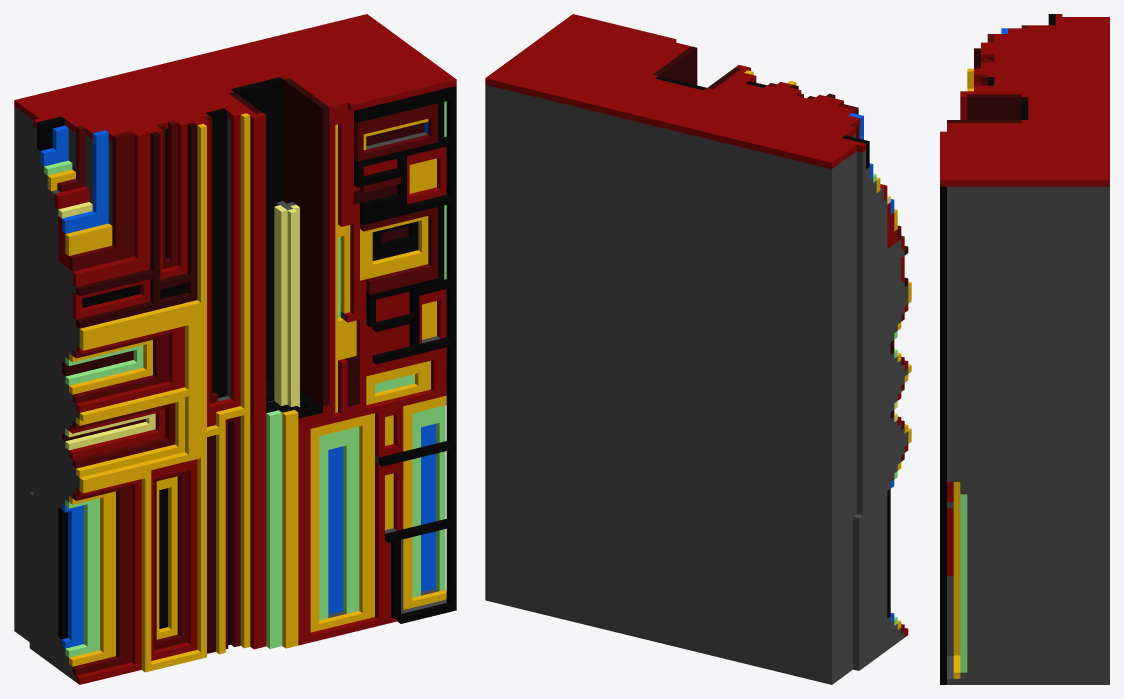
The model's file is dmt_bigwall1.obj.
The picture shows the model from 3 angles, left to right: view 1: azimuth 30°, elevation 25°; view 2: azimuth 150°, elevation 25°; view 3: azimuth 270°, elevation 25°; orthographic projection. The views are drawn at different scales.
Size of the model in its own units: 58 by 82 by 25.
Materials: 1 (1 with a texture image).
